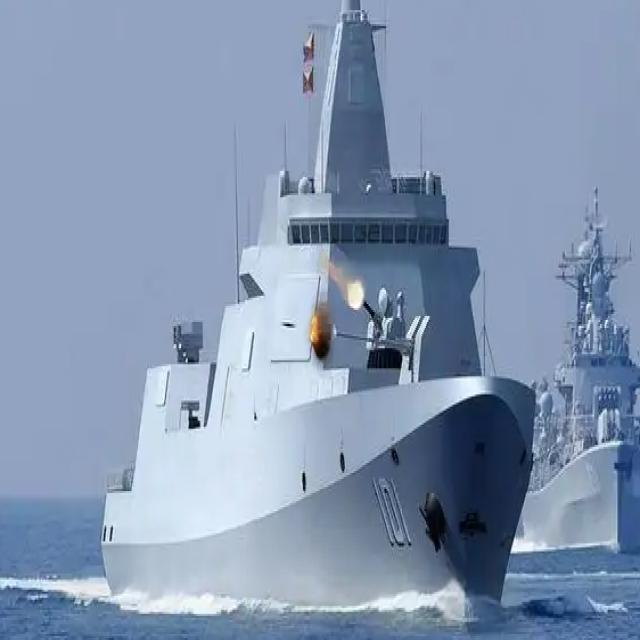navalvessels: (93, 0, 540, 610), (514, 191, 640, 565)
